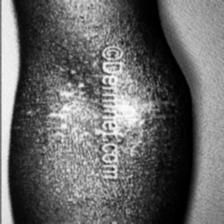Non-Cancerous Skin Condition: (26, 10, 98, 208), (121, 57, 158, 184)
